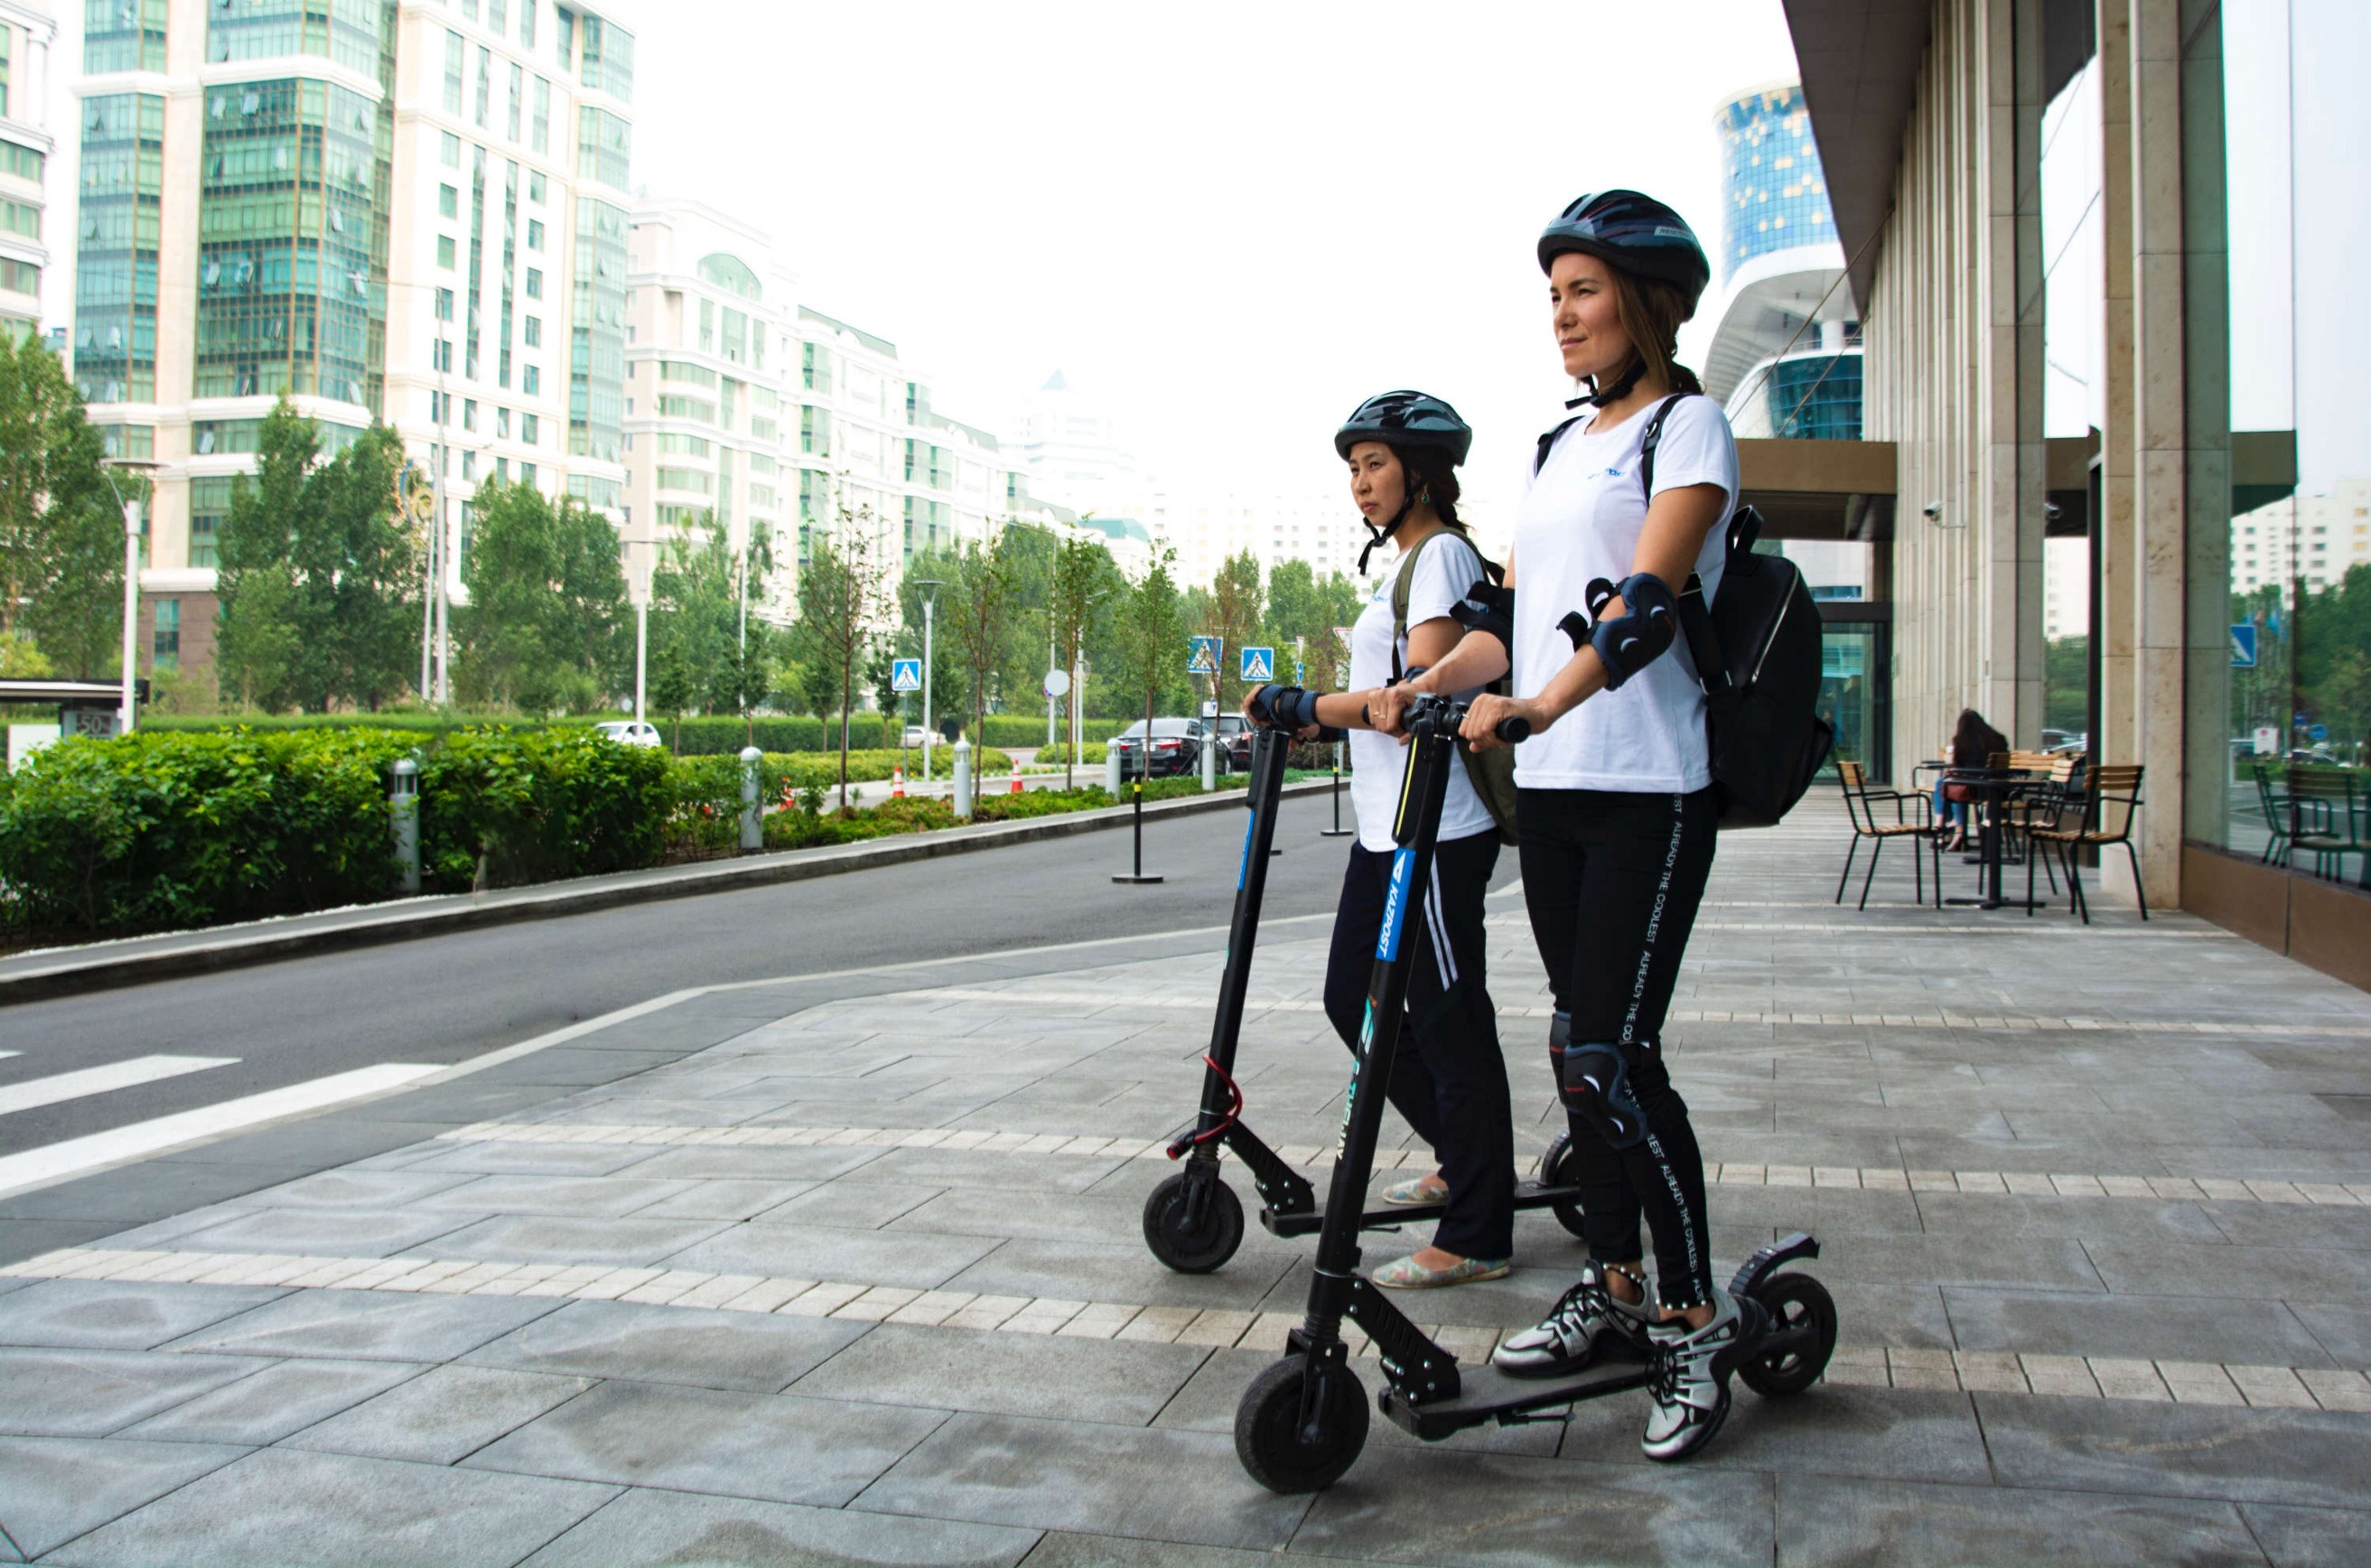scooter: (1237, 663, 1843, 1493), (1134, 681, 1650, 1253)
with helmet: (1538, 177, 1710, 383), (1326, 383, 1494, 551)
